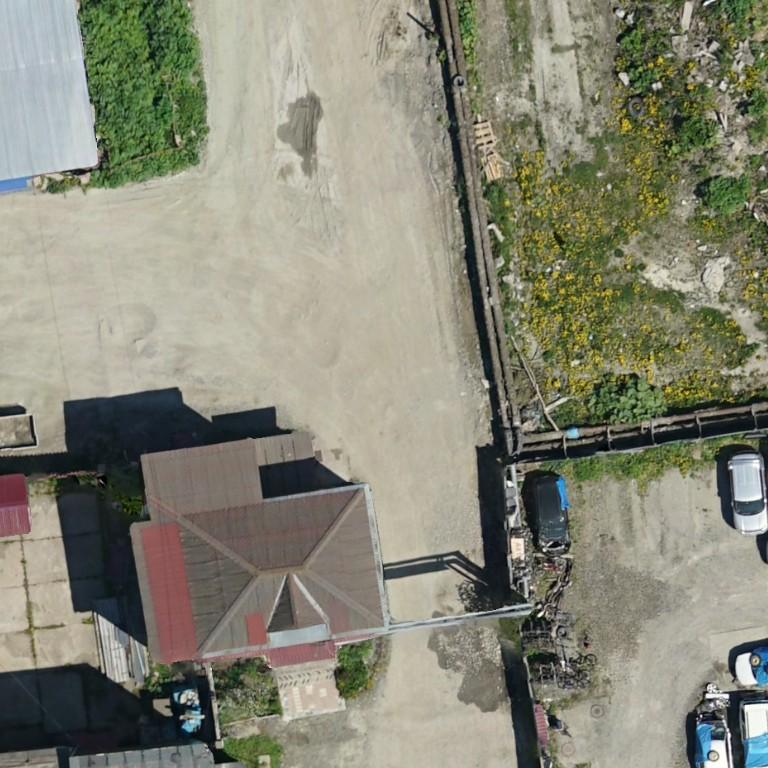hogweed: (79, 0, 208, 187), (696, 176, 748, 211), (677, 119, 720, 145)
